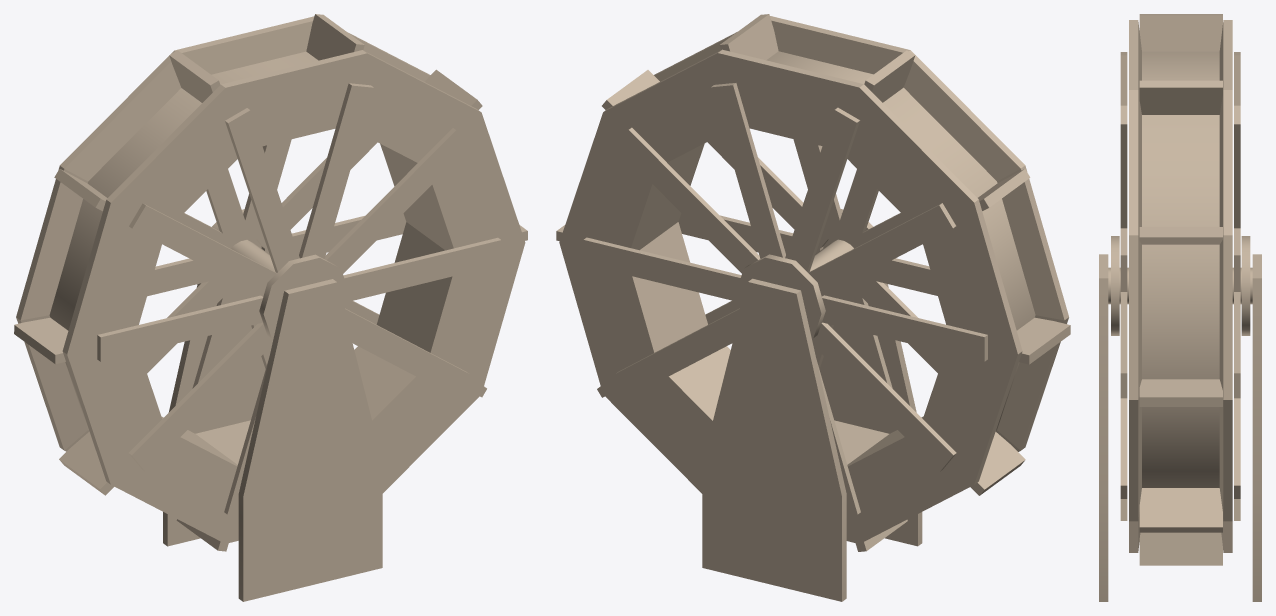
File: shuiche.fbx
3 views of the same model, side by side, from view 1: azimuth 30°, elevation 25°; view 2: azimuth 150°, elevation 25°; view 3: azimuth 270°, elevation 25° (orthographic).
Visible parts, largest first — view 1: Cylinder048, Box134; view 2: Cylinder048, Box134; view 3: Cylinder048, Box134.
Boxes of the visible parts, x1=… form: Cylinder048: x1=14, y1=14, x2=527, y2=551; Box134: x1=163, y1=279, x2=382, y2=601; Cylinder048: x1=556, y1=14, x2=1070, y2=551; Box134: x1=702, y1=278, x2=922, y2=601; Cylinder048: x1=1108, y1=14, x2=1252, y2=565; Box134: x1=1099, y1=254, x2=1261, y2=601.
Size of the model in its own units: 52.82 by 54.56 by 15.55.
